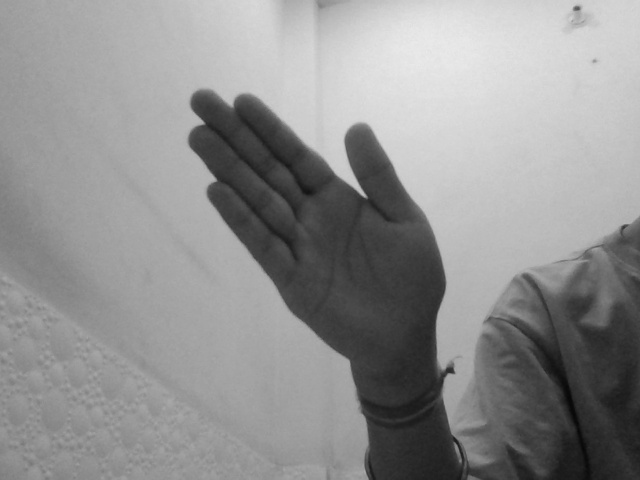Hello: (182, 82, 450, 381)
